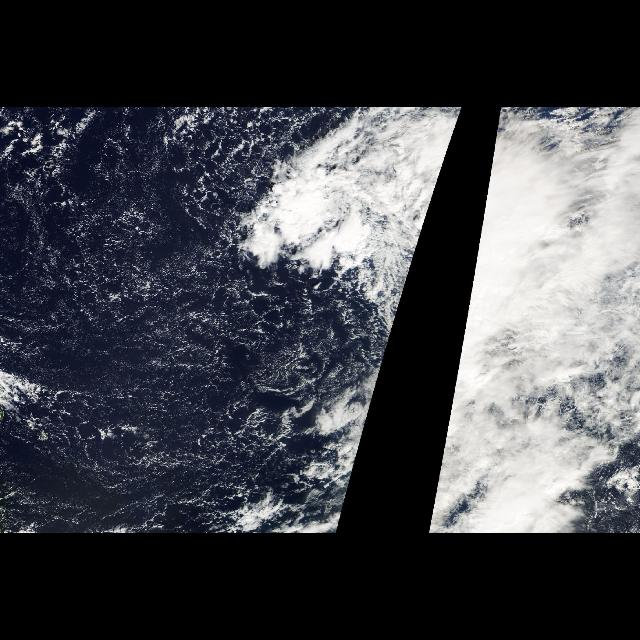Gravel: (167, 109, 335, 224)
Sugar: (2, 228, 320, 392), (33, 398, 281, 528), (89, 108, 299, 222)
